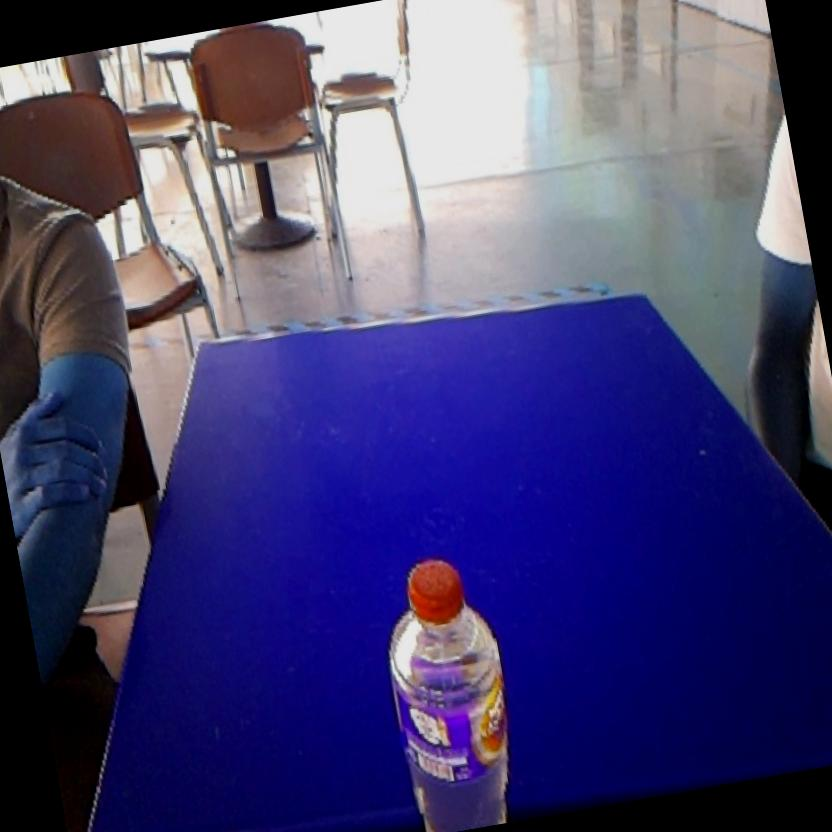good: (349, 525, 537, 832)
